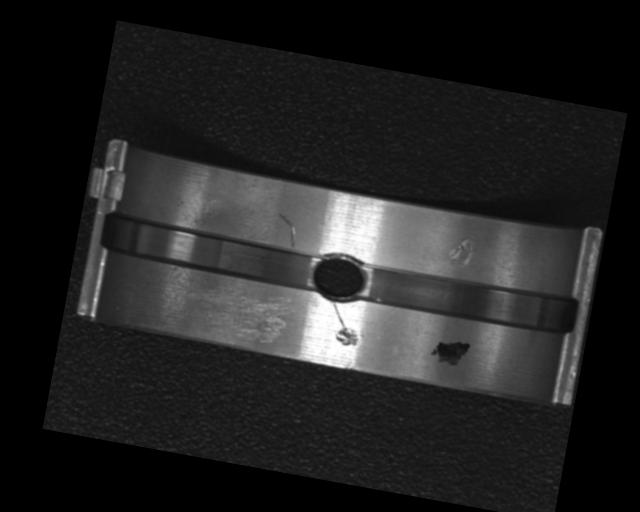blot: (429, 335, 471, 367)
bruise: (444, 231, 478, 269), (331, 324, 362, 347)
gap: (99, 209, 319, 292), (359, 257, 578, 340)
hole: (306, 246, 371, 309)
nick: (272, 212, 301, 248), (326, 300, 352, 331)
scratch: (179, 276, 291, 345)
